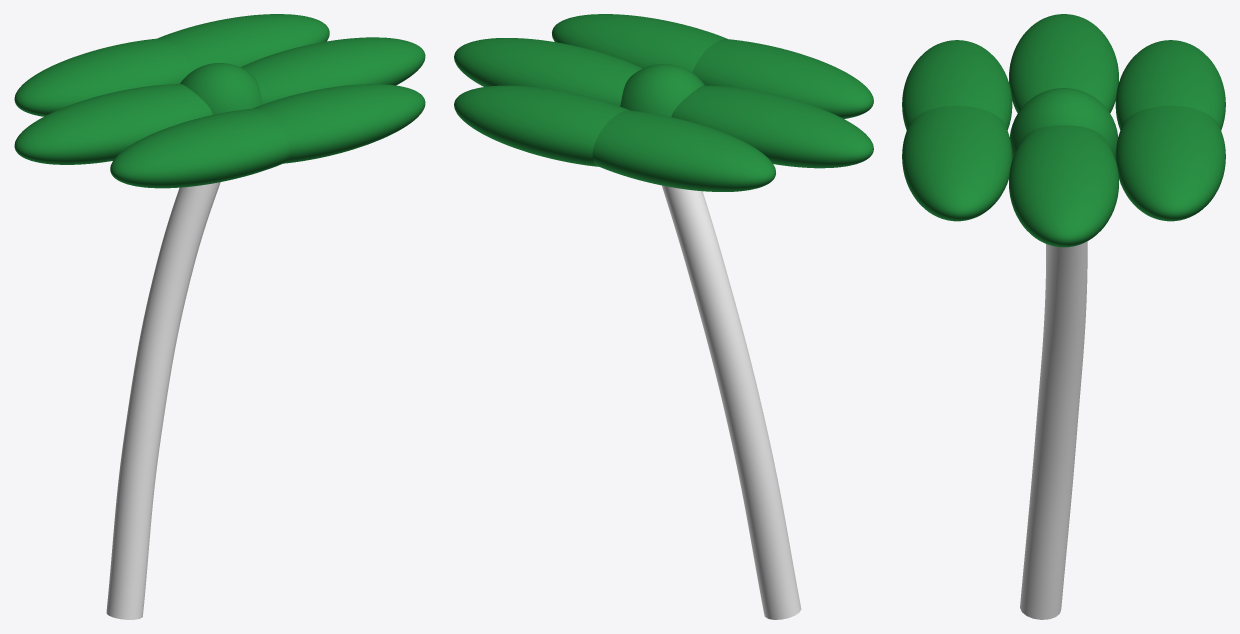
Rendered from palm_tree.glb.
3 views of the same model, side by side, from view 1: azimuth 30°, elevation 25°; view 2: azimuth 150°, elevation 25°; view 3: azimuth 270°, elevation 25° (orthographic). The views are drawn at different scales.
Parts seen in each view (by area): view 1: PalmTrunk, Frond4, Frond3, Frond5, Frond0, Frond2, Frond1, Crown; view 2: PalmTrunk, Frond2, Frond3, Frond1, Frond0, Frond4, Frond5, Crown; view 3: PalmTrunk, Frond0, Frond1, Frond5, Frond3, Frond2, Frond4, Crown.
Boxes of the visible parts, x1,y1,x2,y2 form: PalmTrunk: (106, 182, 220, 619); Frond4: (110, 108, 289, 188); Frond3: (14, 84, 212, 164); Frond5: (253, 84, 425, 163); Frond0: (241, 37, 425, 104); Frond2: (14, 38, 191, 116); Frond1: (157, 14, 329, 71); Crown: (180, 63, 262, 114); PalmTrunk: (662, 185, 801, 619); Frond2: (592, 110, 775, 191); Frond3: (671, 85, 873, 168); Frond1: (454, 85, 629, 166); Frond0: (454, 38, 642, 106); Frond4: (692, 39, 873, 118); Frond5: (552, 14, 727, 72); Crown: (620, 64, 704, 116); PalmTrunk: (1020, 241, 1087, 619); Frond0: (1009, 125, 1118, 247); Frond1: (1115, 105, 1225, 221); Frond5: (902, 105, 1012, 221); Frond3: (1009, 14, 1118, 113); Frond2: (1115, 40, 1225, 130); Frond4: (902, 40, 1012, 130); Crown: (1009, 88, 1118, 159).
Bounding box in the file's own units: 4.02 × 4.9 × 2.5.
